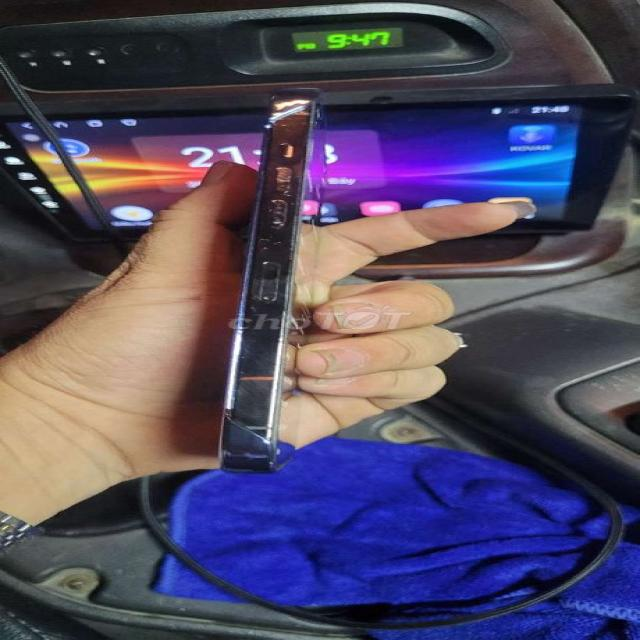gen_12_13: (181, 63, 364, 491)
scratch: (227, 185, 323, 279)
